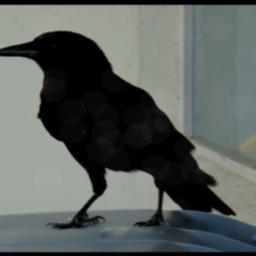Crow: (0, 30, 235, 232)
